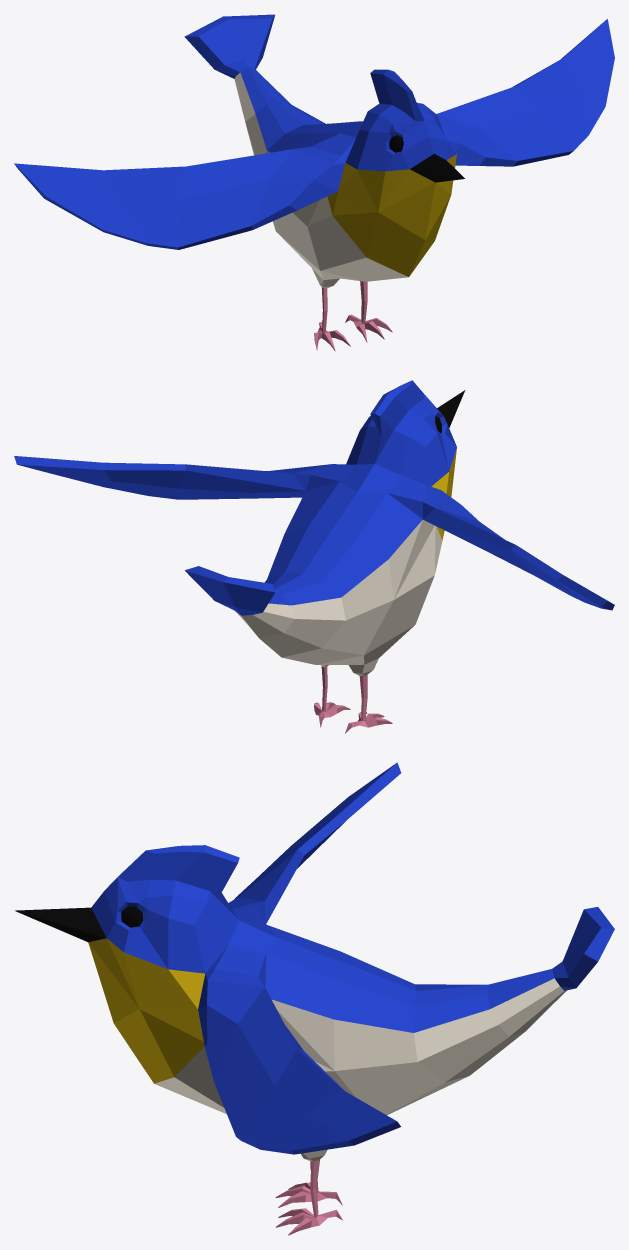
Rendered from Origami_Bird.obj.
3 renders of one model, top to bottom at view 1: azimuth 30°, elevation 25°; view 2: azimuth 150°, elevation 25°; view 3: azimuth 270°, elevation 25°, orthographic. The views are drawn at different scales.
Visible parts, largest first — view 1: Cube.001_Cube.004; view 2: Cube.001_Cube.004; view 3: Cube.001_Cube.004.
Boxes of the visible parts, bbox=[...] form: Cube.001_Cube.004: bbox=[14, 14, 614, 351]; Cube.001_Cube.004: bbox=[14, 380, 614, 733]; Cube.001_Cube.004: bbox=[15, 762, 614, 1235].
Bounding box in the file's own units: 2.85 × 1.36 × 2.01.
